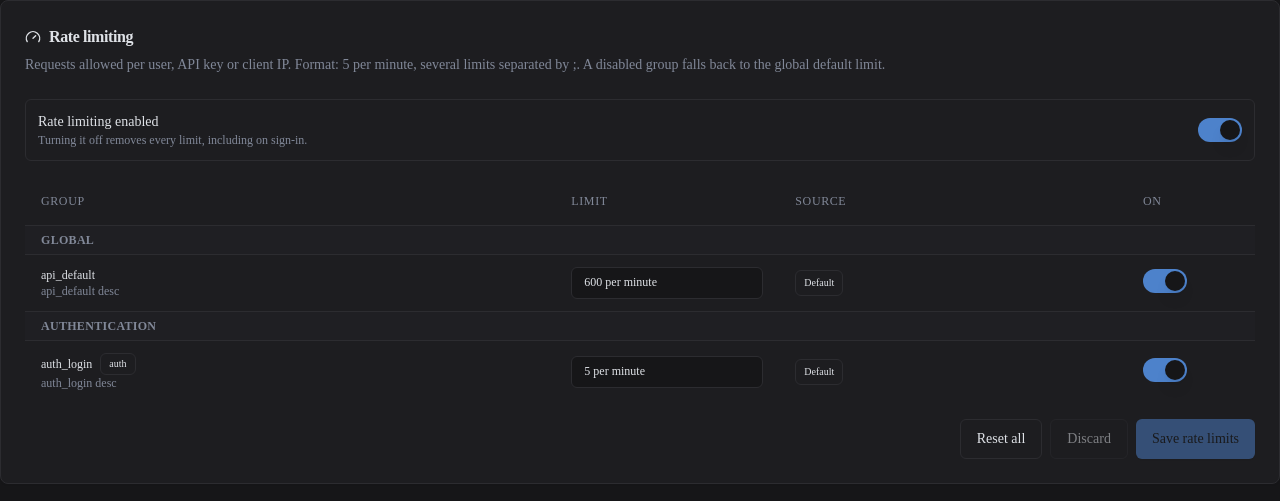
Test case: RateLimitingSection › blocks saving an invalid limit
The image size is (1280, 501).
Type "lots" into the field named "auth_login limit" at (667, 372), box [571,356,763,388]
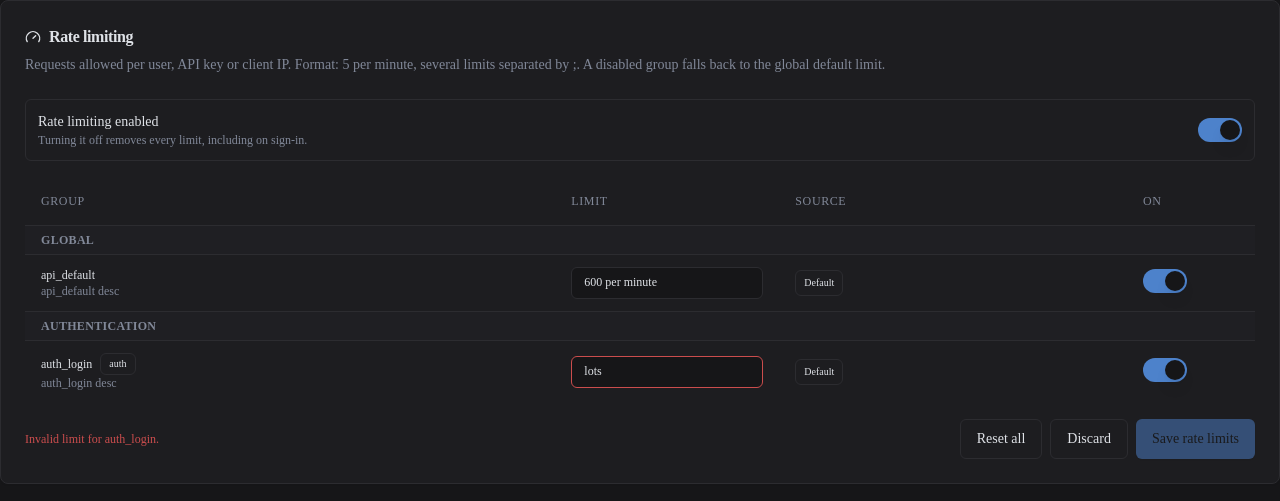
Expected: the button "Save rate limits" is disabled, [1136,418,1255,458]
Expected: the text "Invalid limit for auth_login." is shown, [25,430,159,446]
